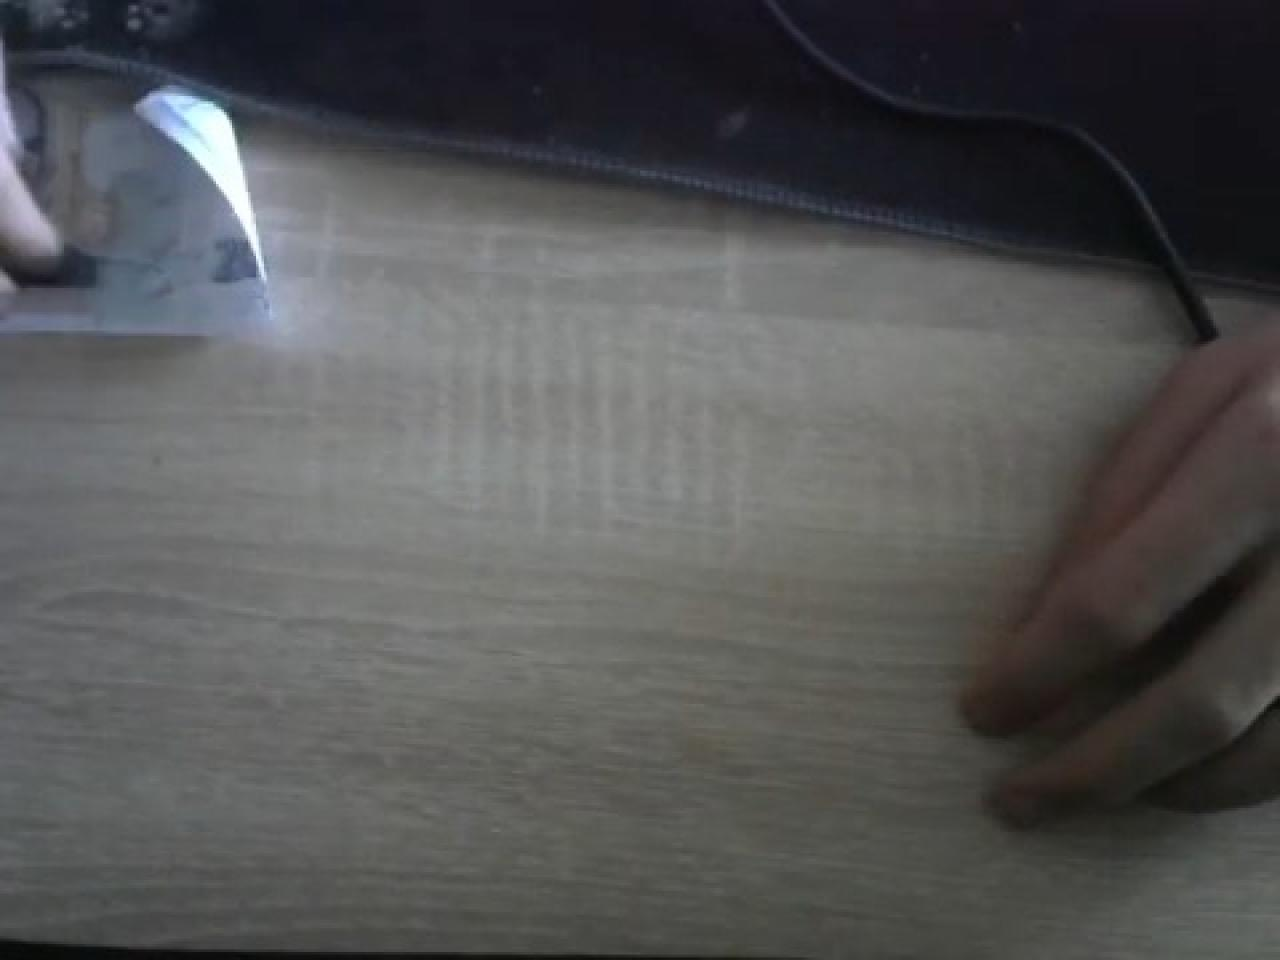20leva: (0, 48, 275, 339)
